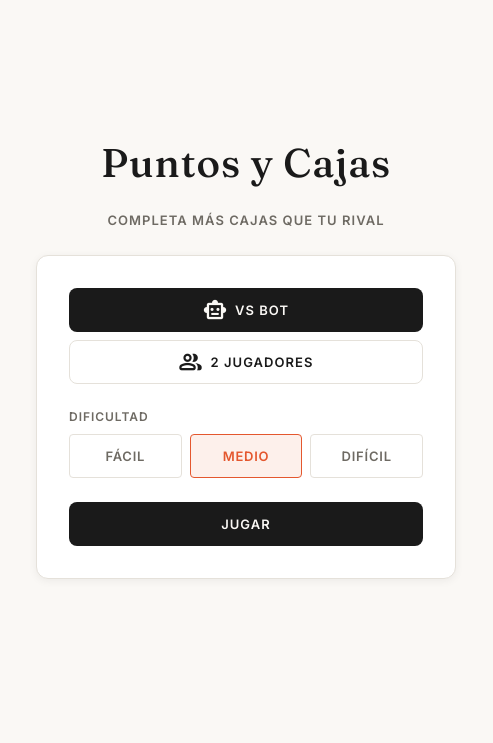
Test case: App › shows the bot difficulty selector in bot mode
Click the button "Difícil": (367, 456) [310, 434, 423, 478]
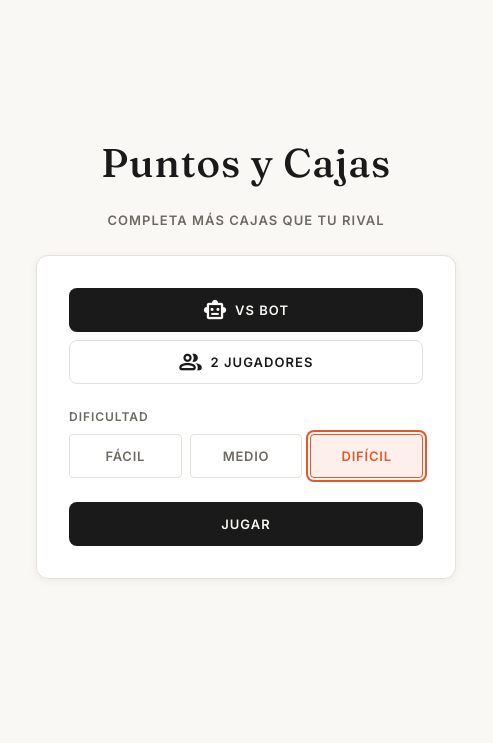
Click the button "Jugar": (246, 524) [69, 502, 423, 546]
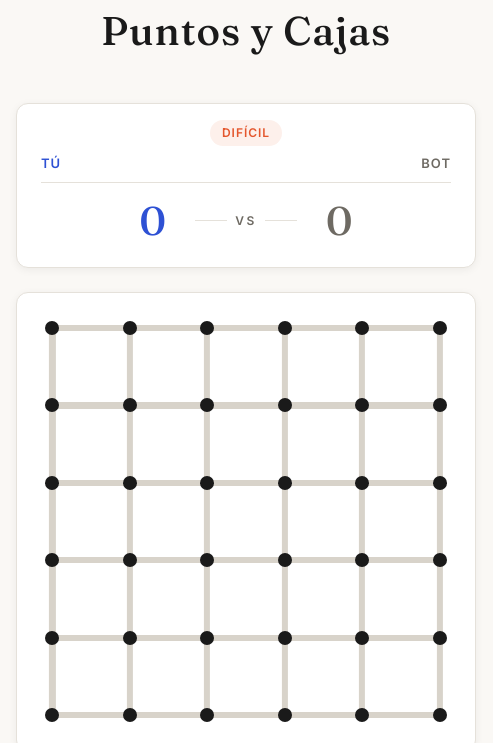
Expected: the text "Difícil" is shown, [210, 120, 282, 146]
Now the element named "Marcador de la partida" is shown, box [16, 103, 476, 268]
